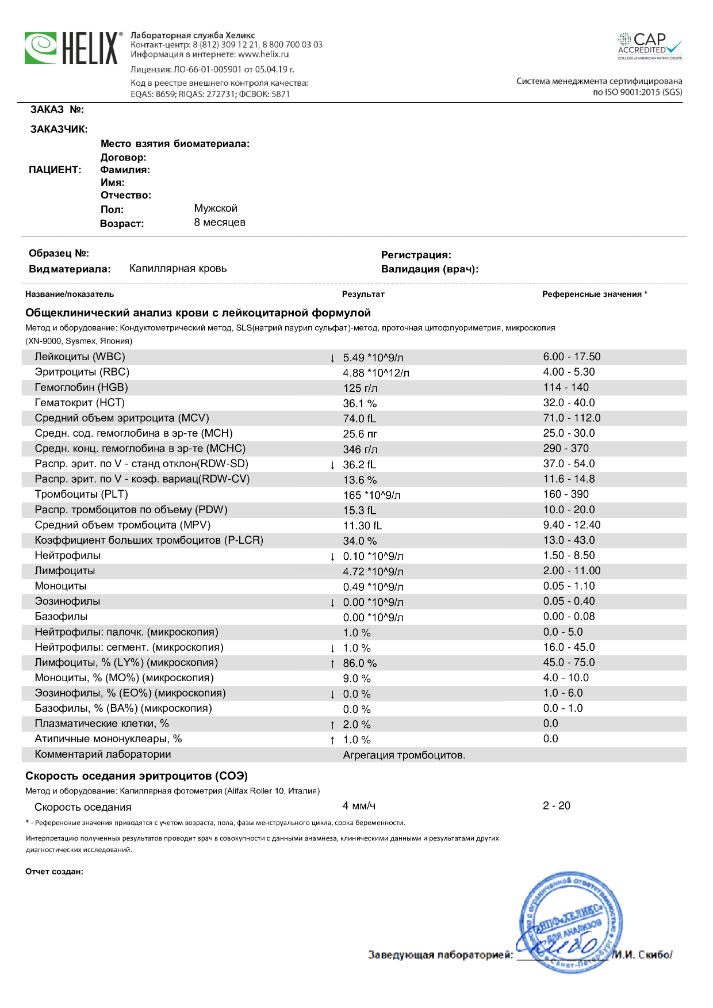column: (33, 350, 264, 761), (341, 350, 410, 761), (541, 350, 601, 761), (33, 800, 132, 813), (542, 290, 642, 299), (25, 290, 114, 299), (341, 800, 376, 813), (541, 800, 571, 813), (342, 290, 385, 299)
